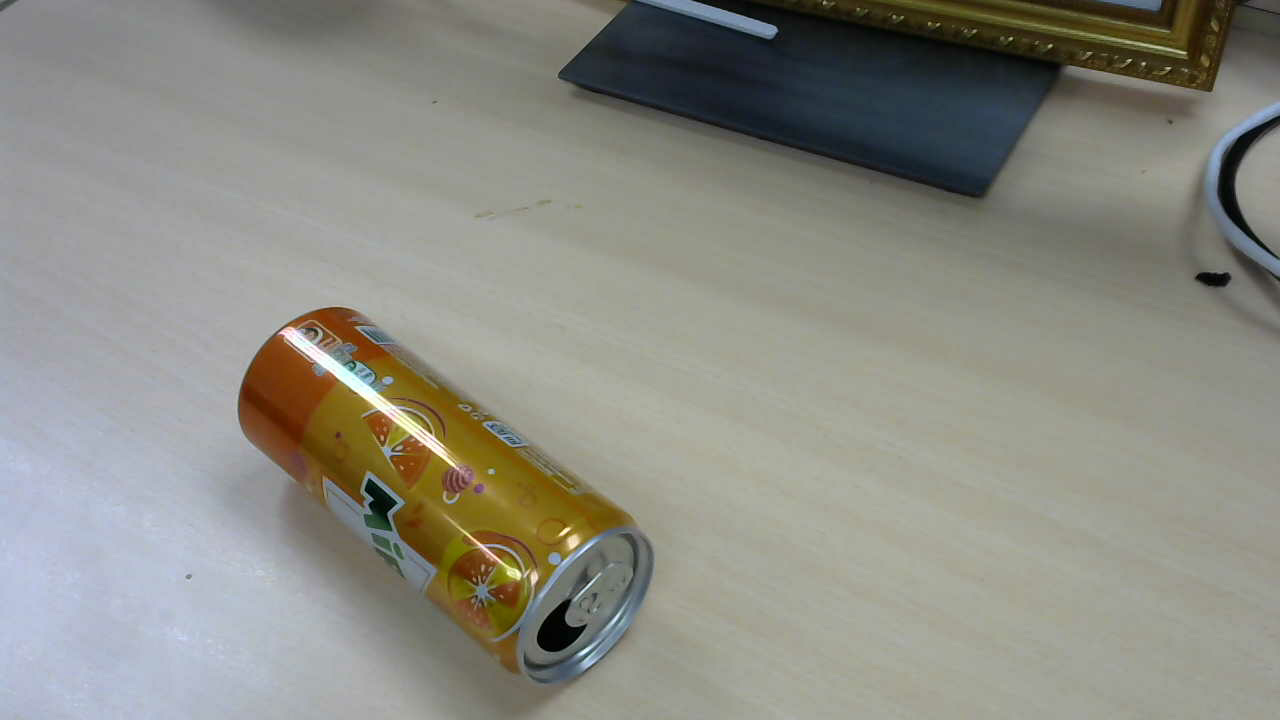Mirinda: (242, 310, 661, 696)
